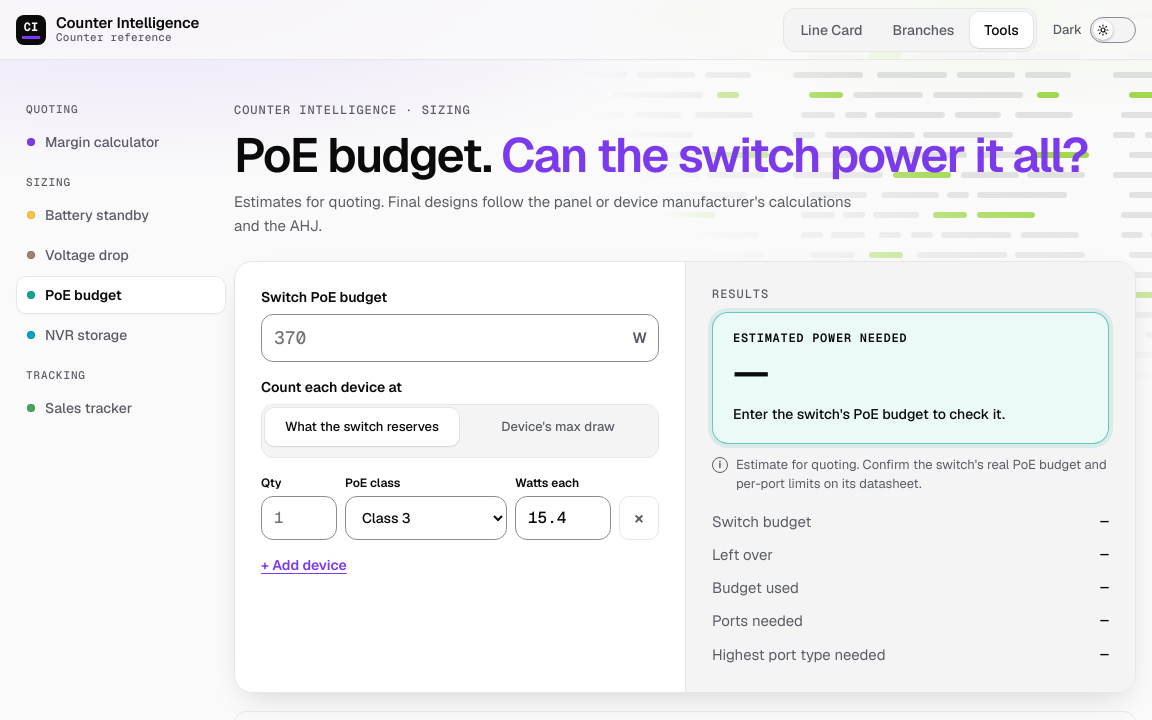
Sizing tools › PoE budget inputs per mode (#54) and incomplete rows (#60) › switching back to reserves ignores a typed wattage, and keeps it for later
The width and height of the screenshot is (1152, 720).
Check the radio button with test id "poe-basis-device": coordinates (558, 427) [461,408,655,446]
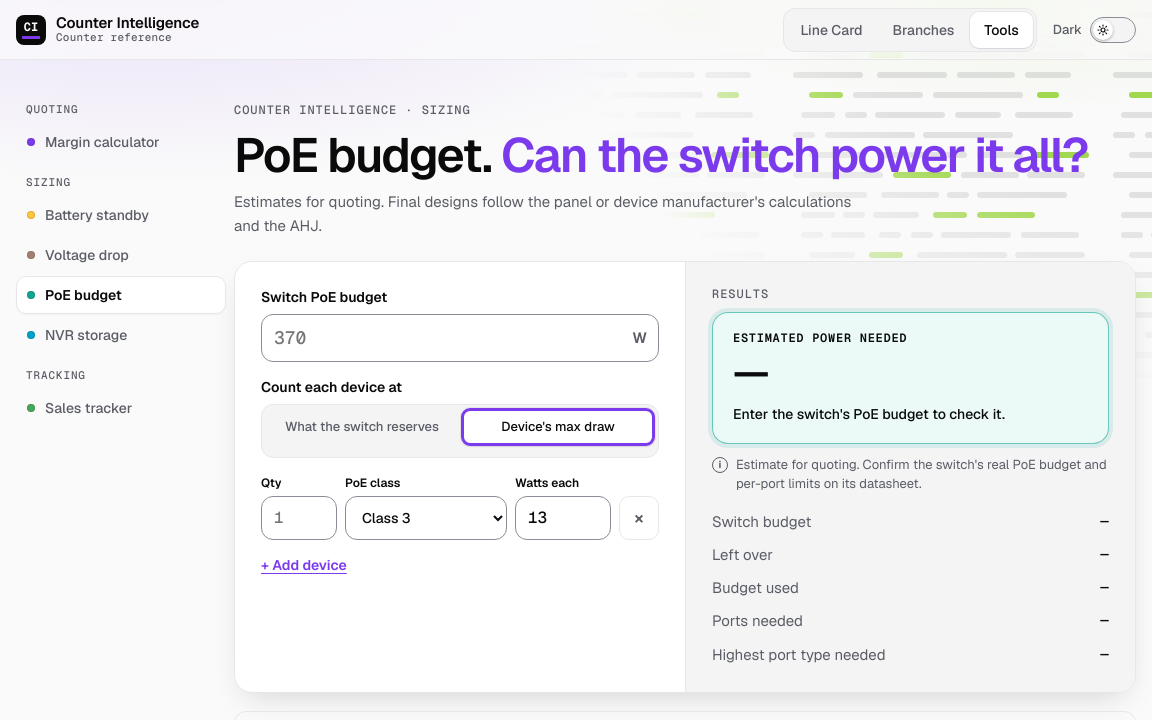
In the field with test id "poe-quantity": coordinates (299, 518) [261,496,337,540], type "2"
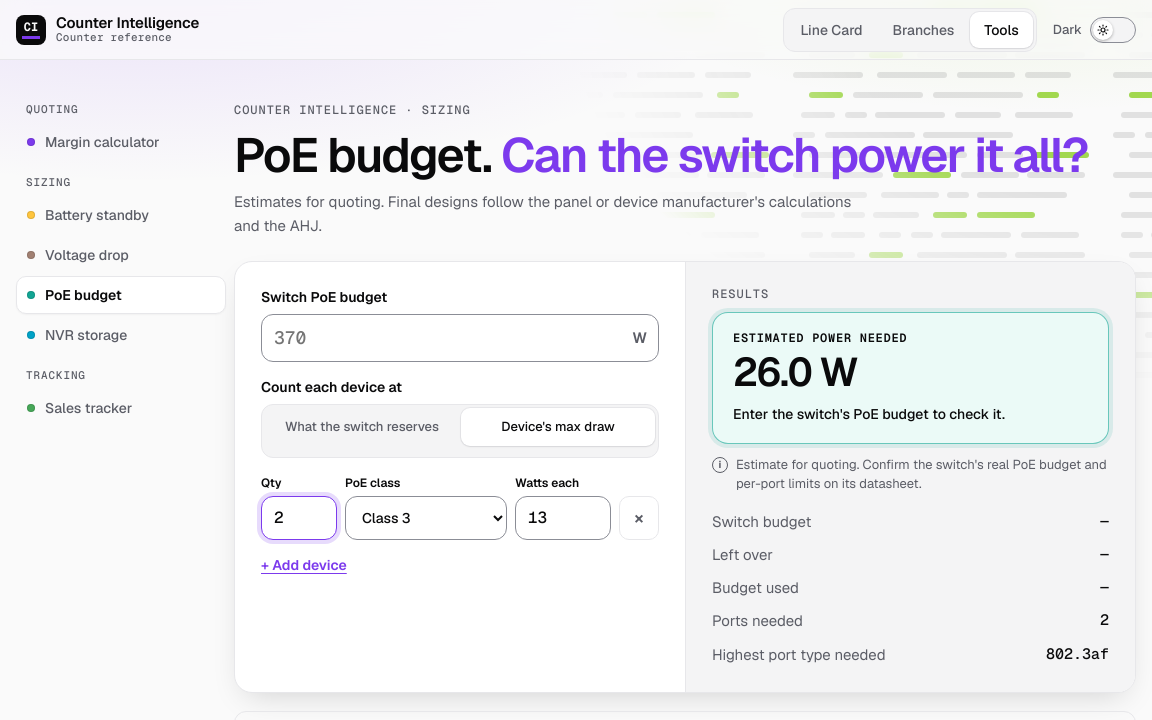
Select "Known watts" in the dropdown with test id "poe-class": coordinates (426, 518) [345,496,507,540]
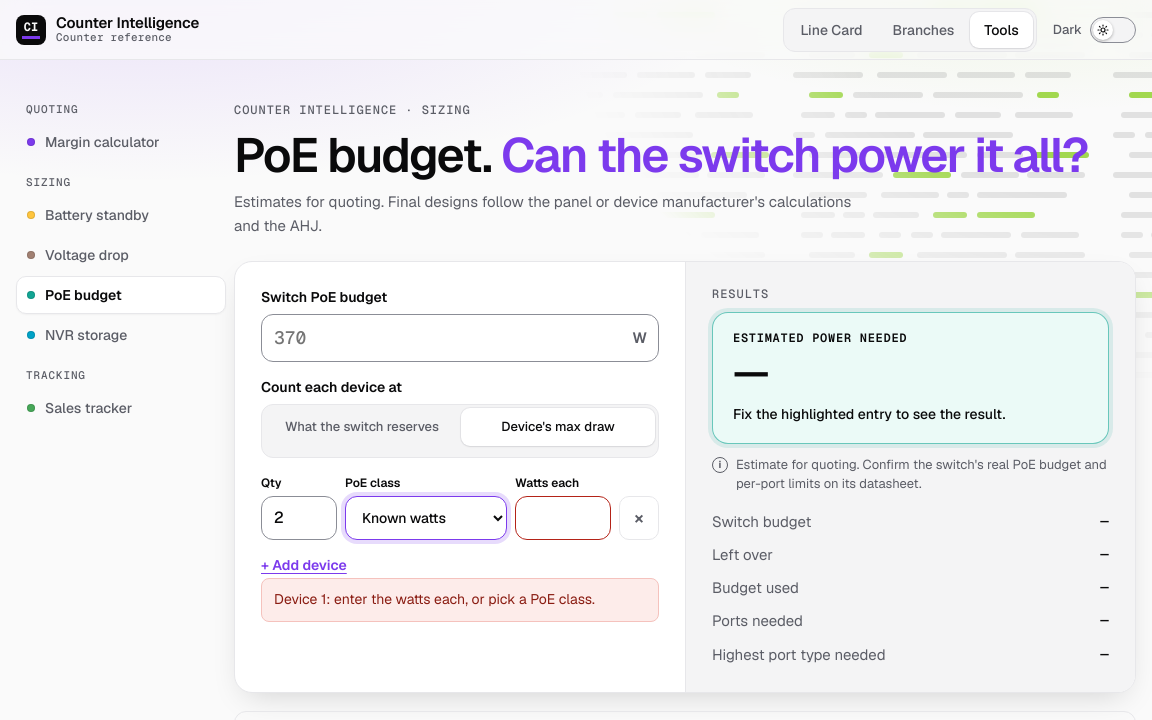
In the field with test id "poe-watts": coordinates (563, 518) [515,496,611,540], type "10"
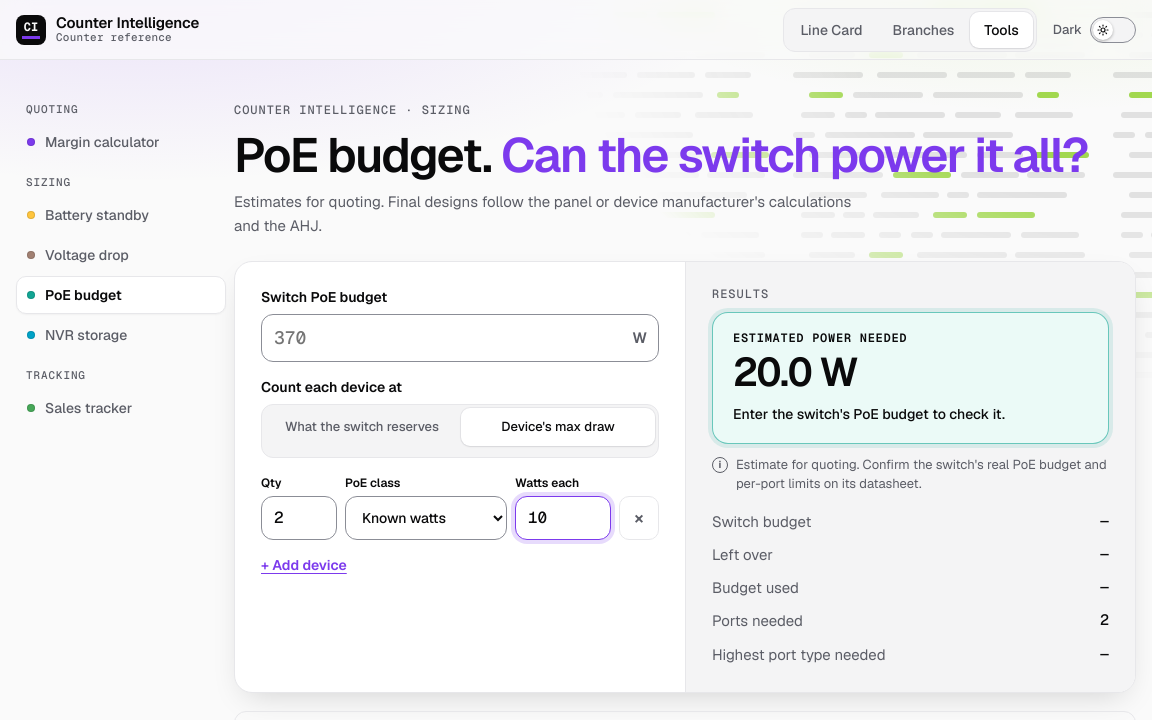
Expected: the text with test id "poe-total" reads "20.0 W", [733,351,1088,393]
Check the radio button with test id "poe-basis-reserve": coordinates (362, 427) [265,408,459,446]
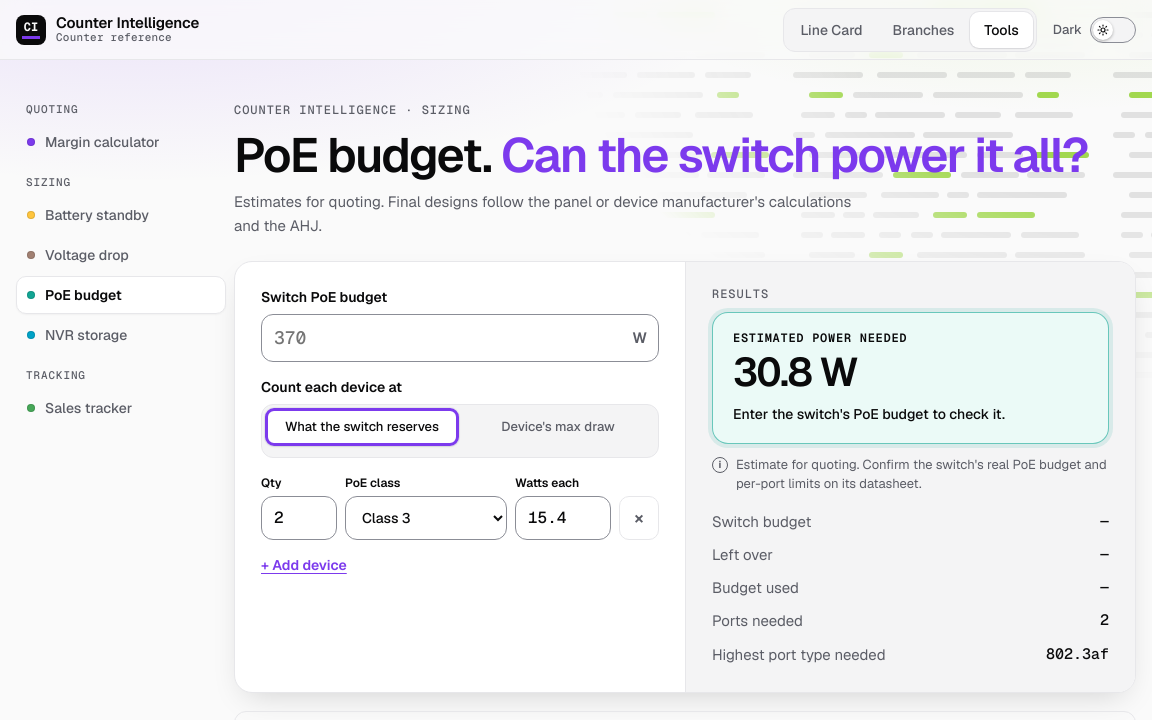
Expected: the text with test id "poe-total" reads "30.8 W", [733,351,1088,393]
Check the radio button with test id "poe-basis-device": coordinates (558, 427) [461,408,655,446]
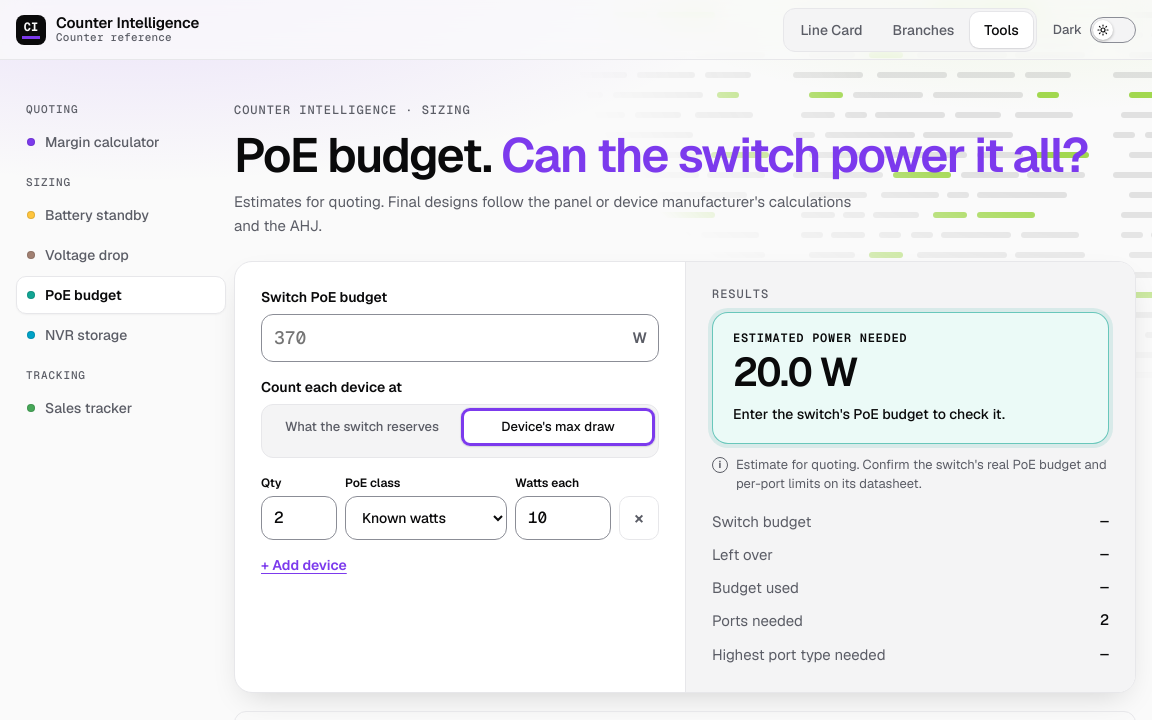
Expected: the text with test id "poe-total" reads "20.0 W", [733,351,1088,393]
